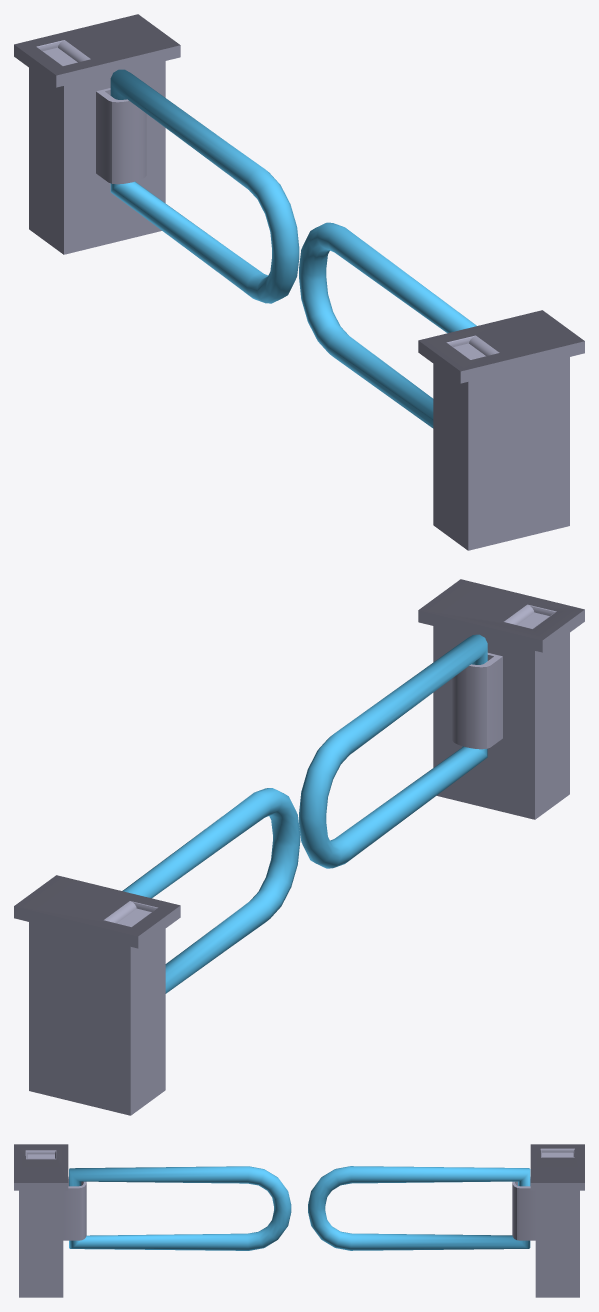
Rendered from Barrier (1).fbx.
3 renders of one model, top to bottom at view 1: azimuth 30°, elevation 25°; view 2: azimuth 150°, elevation 25°; view 3: azimuth 270°, elevation 25°, orthographic. The views are drawn at different scales.
Parts seen in each view (by area): view 1: Right, Left, LeftDoor, RightDoor; view 2: Left, Right, RightDoor, LeftDoor; view 3: Left, Right, LeftDoor, RightDoor.
Boxes of the visible parts, <box> form: Right: <box>418,310,584,550</box>; Left: <box>14,14,180,254</box>; LeftDoor: <box>110,69,299,303</box>; RightDoor: <box>299,222,476,428</box>; Left: <box>14,875,180,1115</box>; Right: <box>418,579,584,819</box>; RightDoor: <box>299,634,487,868</box>; LeftDoor: <box>122,788,300,993</box>; Left: <box>512,1144,584,1297</box>; Right: <box>14,1144,86,1297</box>; LeftDoor: <box>308,1166,530,1250</box>; RightDoor: <box>69,1166,291,1250</box>.
Size of the model in its own units: 62.94 by 89.53 by 392.
Materials: 1 (1 with a texture image).
